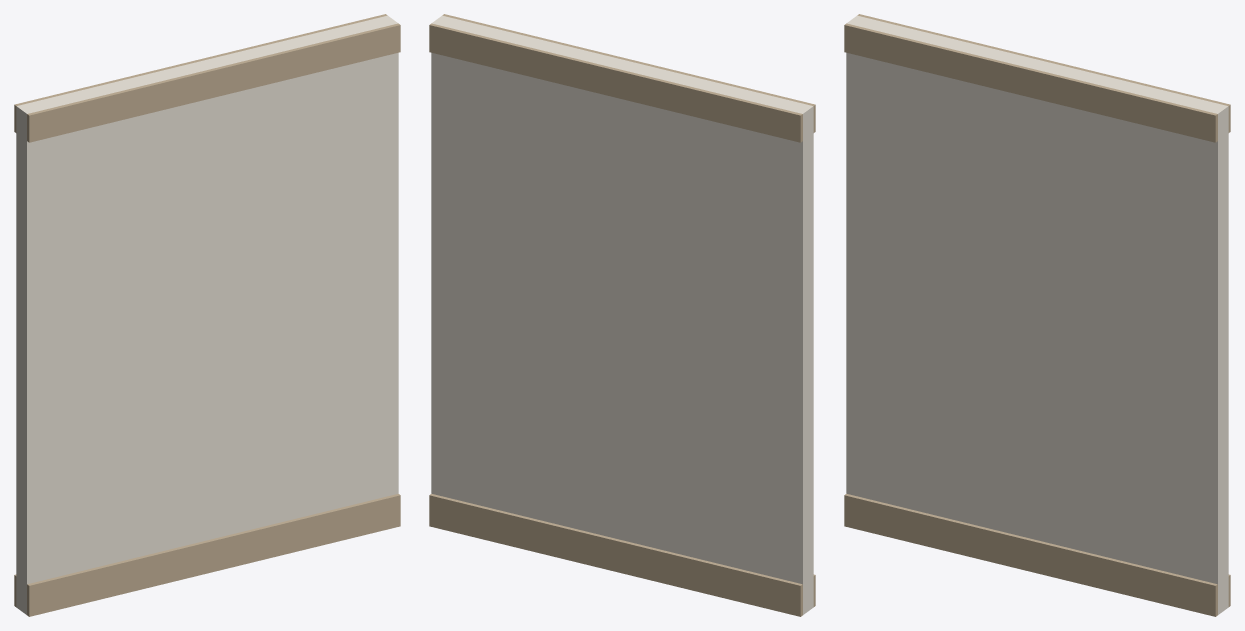
The model's file is partition.glb.
3 views of the same model, side by side, from view 1: azimuth 30°, elevation 25°; view 2: azimuth 150°, elevation 25°; view 3: azimuth 330°, elevation 25° (orthographic).
Parts seen in each view (by area): view 1: partition; view 2: partition; view 3: partition.
Part boxes in pixels (bbox=[...]): partition: bbox=[14, 14, 400, 616]; partition: bbox=[429, 14, 815, 616]; partition: bbox=[844, 14, 1230, 616].
Size of the model in its own units: 1 by 1.29 by 0.07.
1 material, 1 textured.
